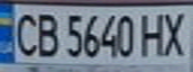0: (115, 11, 139, 58)
4: (100, 11, 121, 58)
5: (60, 10, 84, 58)
6: (81, 11, 103, 58)
B: (30, 9, 60, 58)
C: (6, 9, 42, 58)
H: (136, 9, 169, 57)
X: (157, 8, 193, 57)
